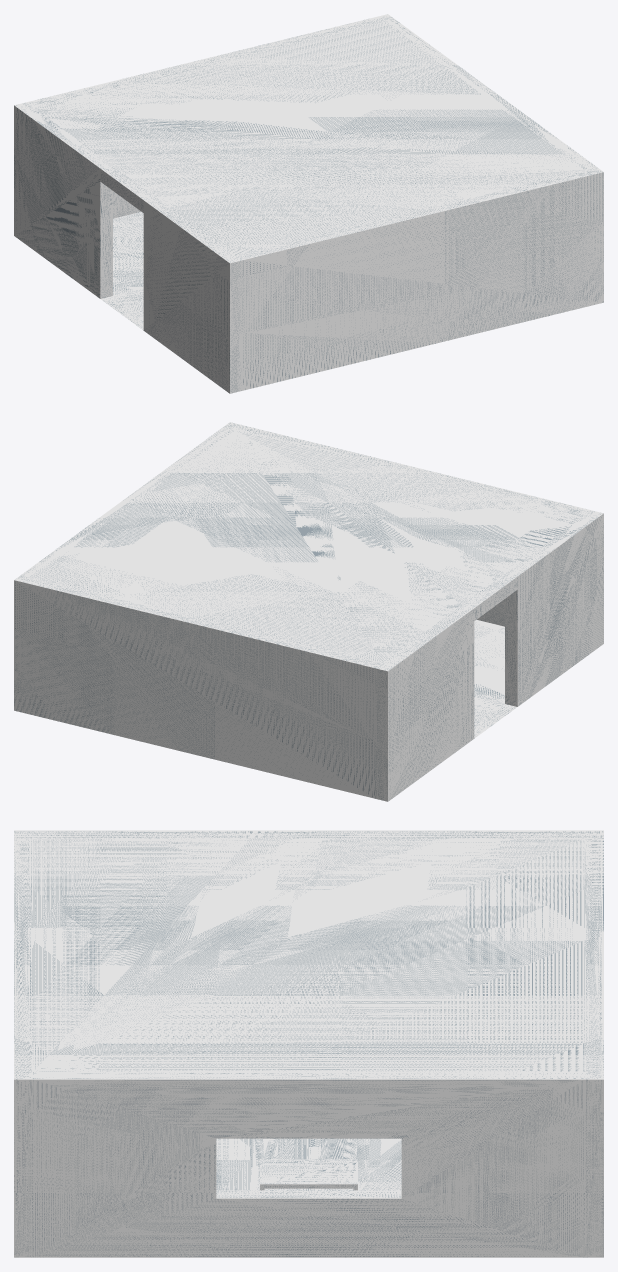
File: table and house.dae
The picture shows the model from 3 angles, top to bottom: view 1: azimuth 30°, elevation 25°; view 2: azimuth 150°, elevation 25°; view 3: azimuth 270°, elevation 25°; orthographic projection. The views are drawn at different scales.
Visible parts, largest first — view 1: SketchUp; view 2: SketchUp; view 3: SketchUp (×3).
Boxes of the visible parts, x1,y1,x2,y2 form: SketchUp: (14, 14, 603, 393); SketchUp: (14, 422, 603, 801); SketchUp (×3): (14, 830, 603, 1257).
Bounding box in the file's own units: 360 × 360 × 120.
